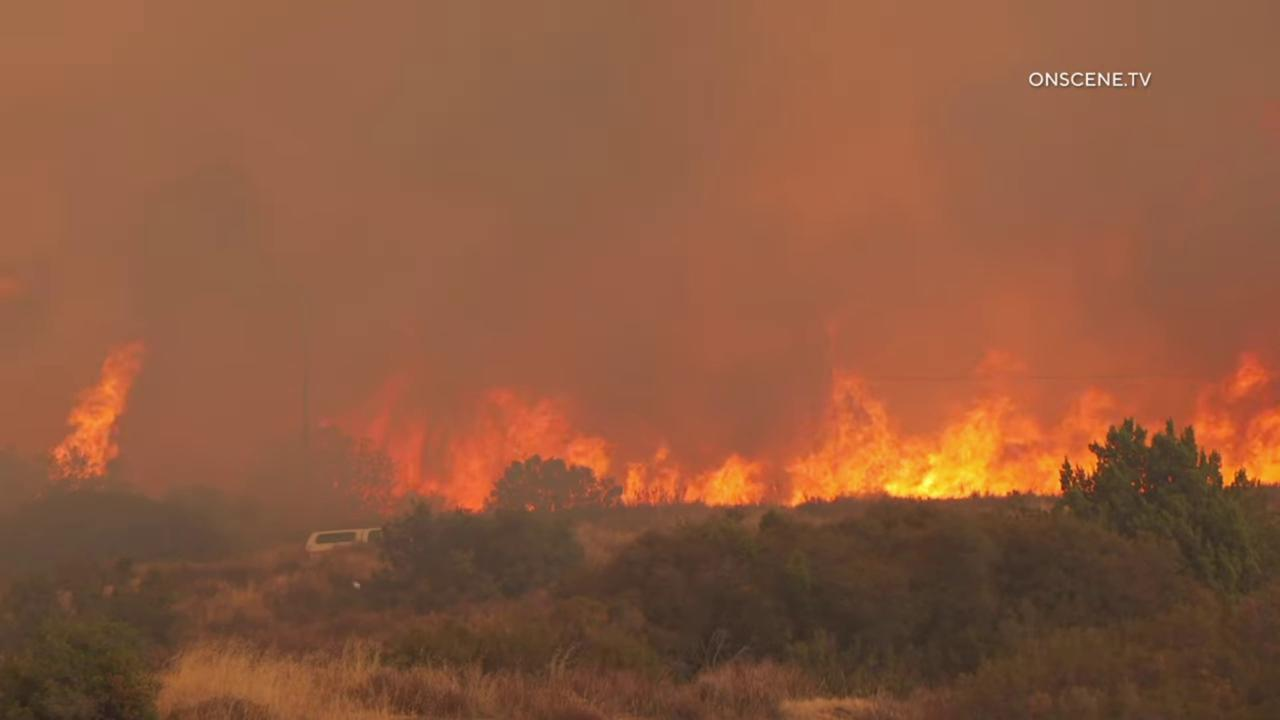fire: (313, 339, 1280, 509), (44, 340, 153, 494)
smoke: (0, 0, 1280, 524)
